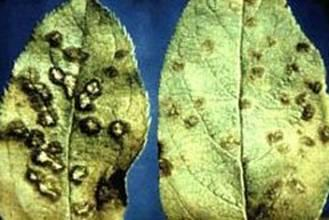Apple Scab Leaf: (154, 1, 328, 220), (1, 1, 158, 220)
